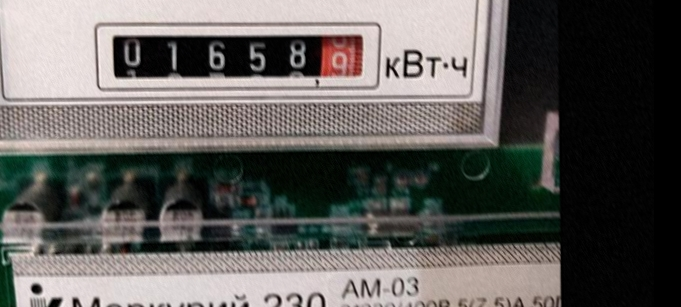0: (121, 36, 141, 66)
1: (164, 38, 181, 71)
5: (246, 39, 267, 71)
6: (206, 37, 226, 70)
8: (287, 36, 307, 68)
9: (327, 49, 349, 78)
screen: (85, 11, 386, 97)
